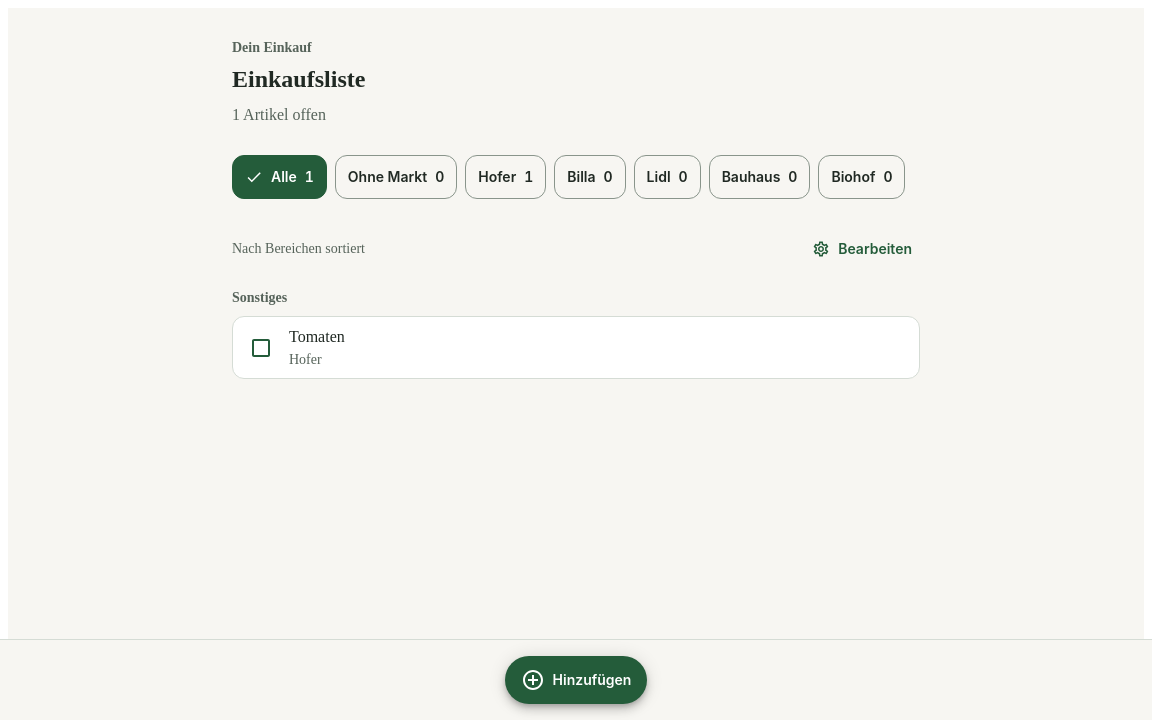
Test: retains a failed purchase and retries when rollback arrives before rejection
The image size is (1152, 720).
Click the button with id "market-filter-hofer" at point(506, 177), box [465, 155, 546, 199]
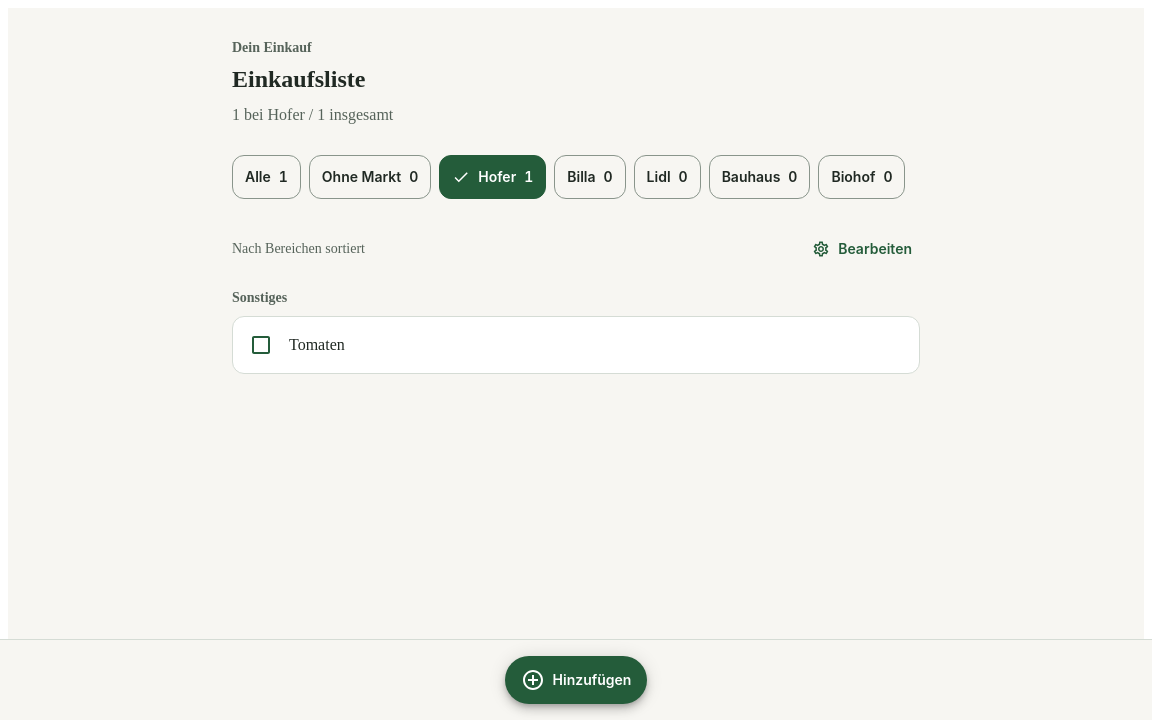
Click the button named "Tomaten als gekauft markieren" at point(261, 345), box [237, 321, 285, 369]
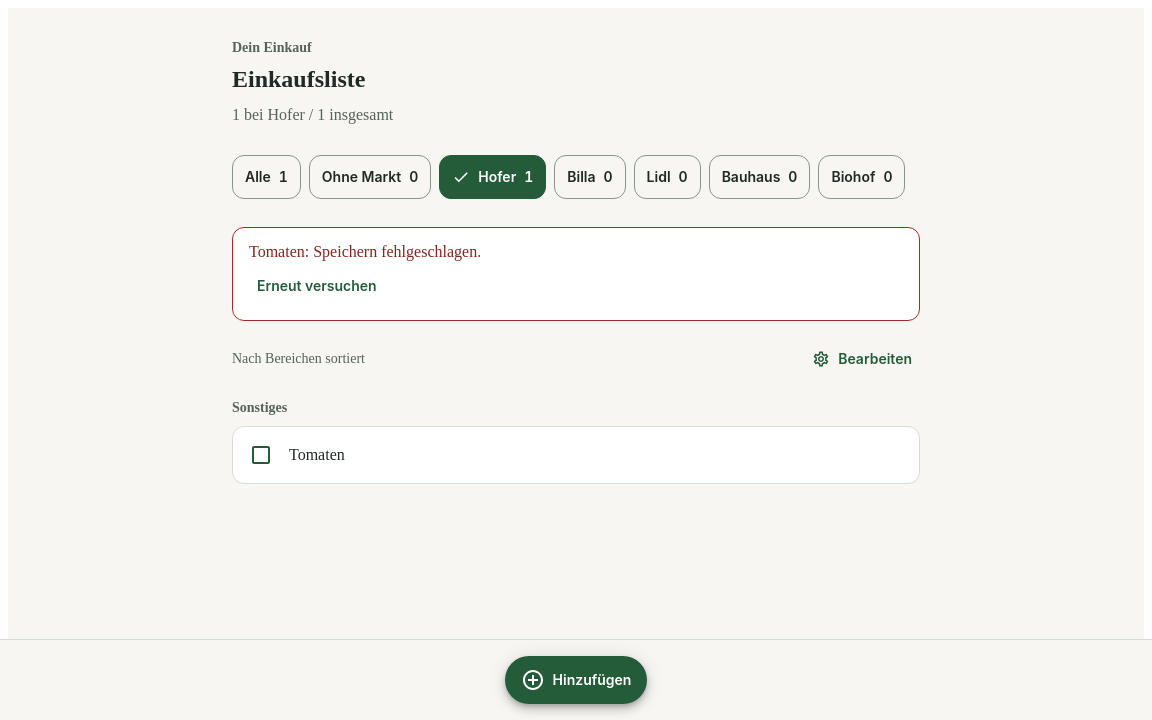
Expected: the text with class "GroceryName" reads "Tomaten", [289, 446, 345, 463]
Now the message "Tomaten: Speichern fehlgeschlagen. Erneut versuchen" is shown, box [232, 227, 920, 321]
Click the button "Erneut versuchen" at point(317, 286), box [249, 264, 385, 308]
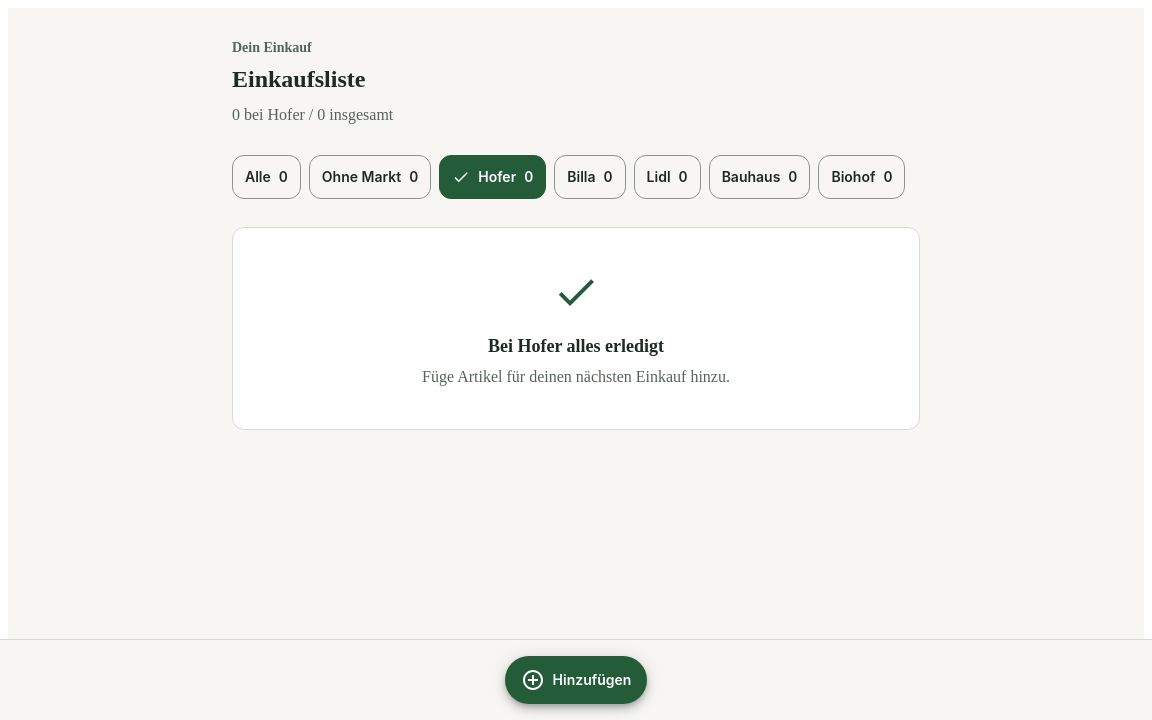
Now the text "Bei Hofer alles erledigt" is shown, box [488, 336, 664, 356]
Now the text with class "GroceryName" is gone
